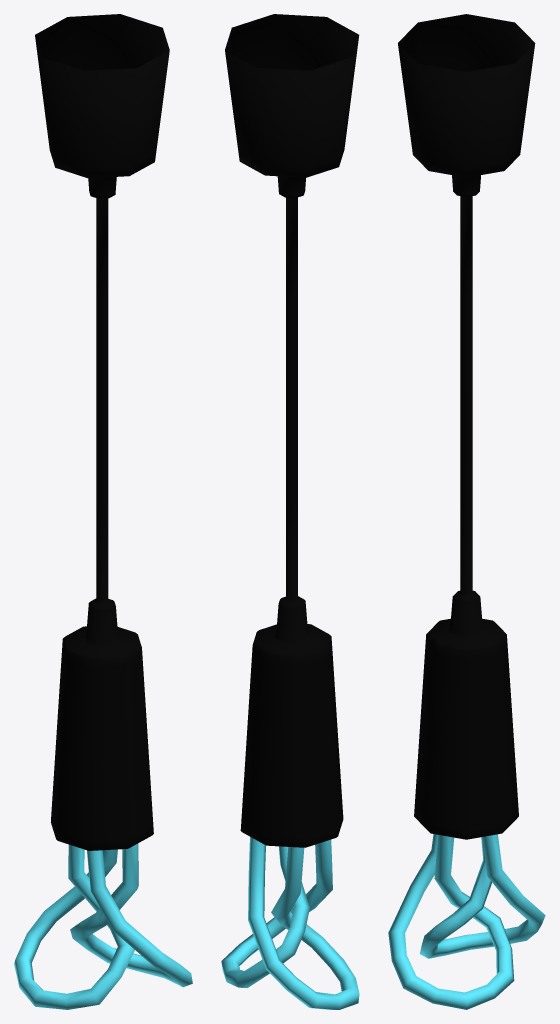
The model's file is SM_Pendantlight_007_C.FBX.
3 views of the same model, side by side, from view 1: azimuth 30°, elevation 25°; view 2: azimuth 150°, elevation 25°; view 3: azimuth 270°, elevation 25° (orthographic).
Parts seen in each view (by area): view 1: SM_Pendantlight_007_C; view 2: SM_Pendantlight_007_C; view 3: SM_Pendantlight_007_C.
Boxes of the visible parts, x1,y1,x2,y2 form: SM_Pendantlight_007_C: [14, 14, 192, 1009]; SM_Pendantlight_007_C: [221, 14, 359, 1009]; SM_Pendantlight_007_C: [388, 14, 545, 1009].
Size of the model in its own units: 13.63 by 13.67 by 89.56.
